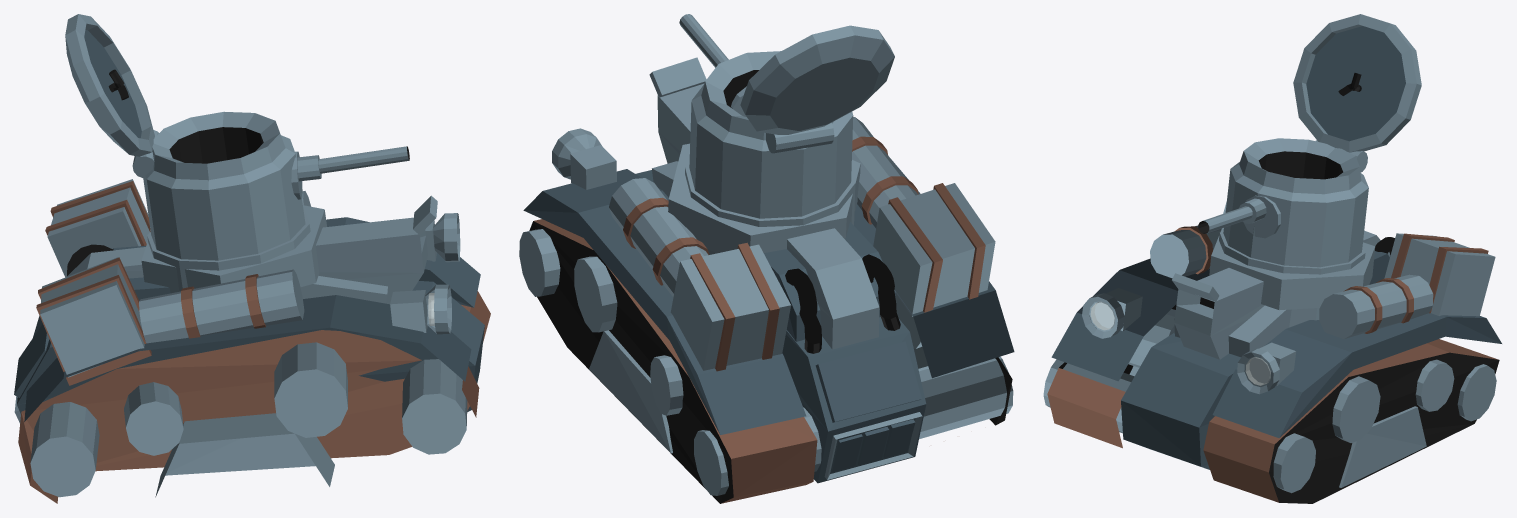
The model's file is History3.gltf.
3 views of the same model, side by side, from view 1: azimuth 30°, elevation 25°; view 2: azimuth 150°, elevation 25°; view 3: azimuth 270°, elevation 25° (orthographic). The views are drawn at different scales.
Visible parts, largest first — view 1: Node; view 2: Node; view 3: Node.
Part boxes in pixels (x1=…): Node: x1=14, y1=14, x2=490, y2=503; Node: x1=519, y1=14, x2=1014, y2=503; Node: x1=1043, y1=14, x2=1501, y2=503.
Bounding box in the file's own units: 18.59 × 16.16 × 17.55.
